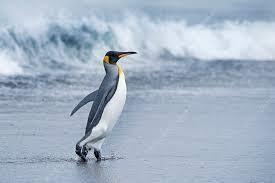king: (64, 40, 152, 172)
